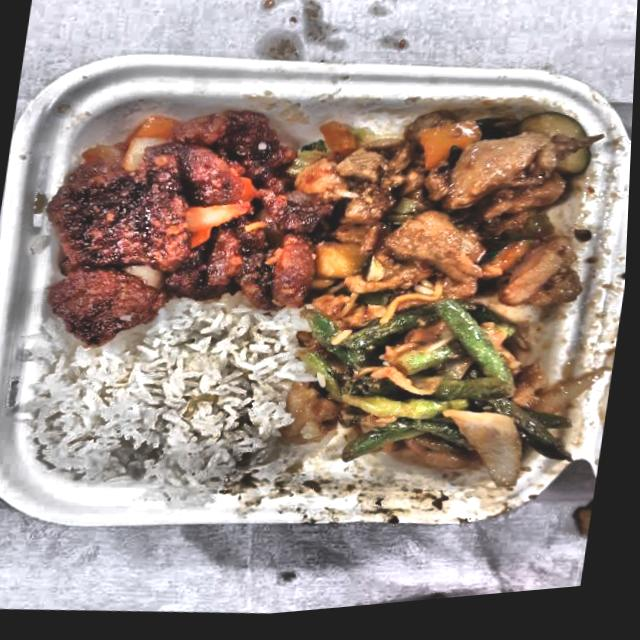Food: (24, 81, 336, 379), (303, 84, 610, 344), (289, 280, 592, 511), (35, 298, 317, 515)
